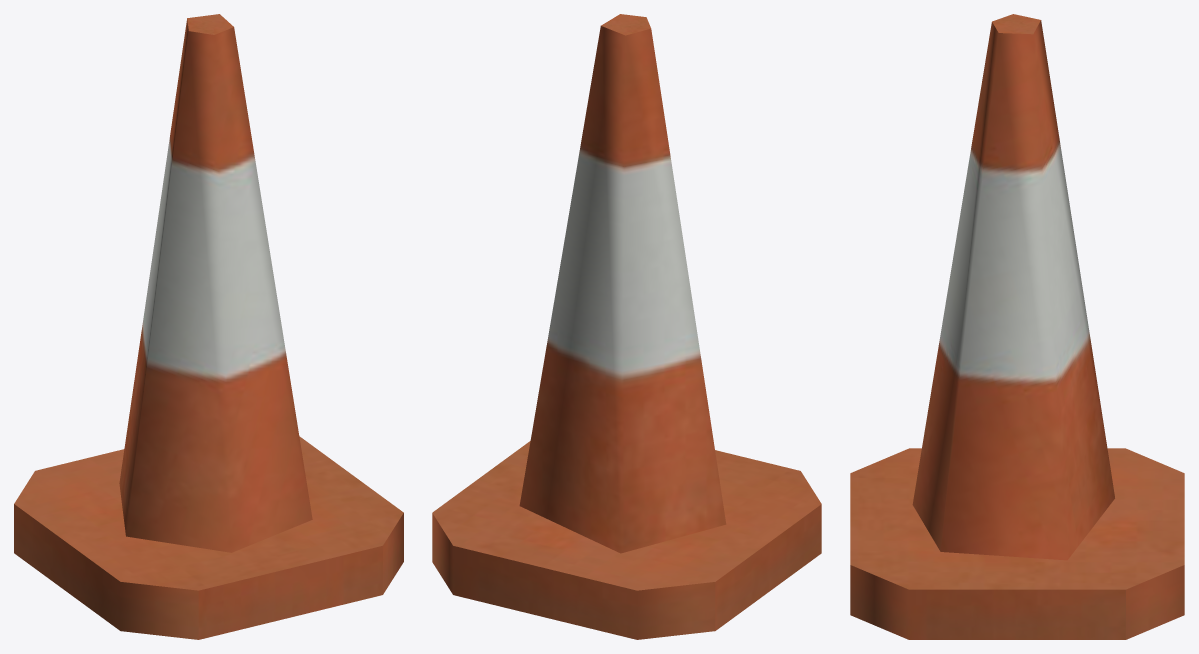
Rendered from Traffic_Cone.glb.
The picture shows the model from 3 angles, left to right: view 1: azimuth 30°, elevation 25°; view 2: azimuth 150°, elevation 25°; view 3: azimuth 270°, elevation 25°; orthographic projection. The views are drawn at different scales.
Visible parts, largest first — view 1: Traffic_Cone__LOD1; view 2: Traffic_Cone__LOD1; view 3: Traffic_Cone__LOD1.
Boxes of the visible parts, x1,y1,x2,y2 form: Traffic_Cone__LOD1: (14, 14, 403, 639); Traffic_Cone__LOD1: (432, 14, 821, 639); Traffic_Cone__LOD1: (850, 14, 1184, 639).
Bounding box in the file's own units: 0.4702 × 0.8455 × 0.4702.
Materials: 1 (1 with a texture image).
